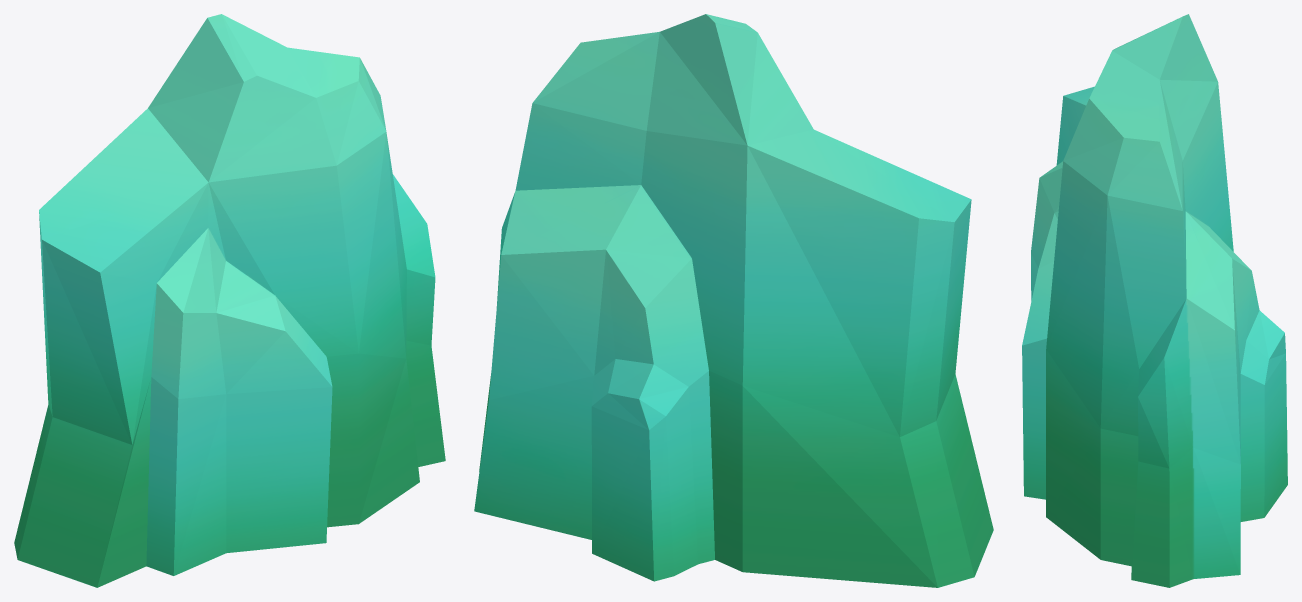
The model's file is SM_APP_Lush_Cliff_B.glb.
3 views of the same model, side by side, from view 1: azimuth 30°, elevation 25°; view 2: azimuth 150°, elevation 25°; view 3: azimuth 270°, elevation 25° (orthographic). The views are drawn at different scales.
Parts seen in each view (by area): view 1: SM_APP_Lush_Cliff_B; view 2: SM_APP_Lush_Cliff_B; view 3: SM_APP_Lush_Cliff_B.
Boxes of the visible parts, x1,y1,x2,y2 form: SM_APP_Lush_Cliff_B: (14, 14, 445, 587); SM_APP_Lush_Cliff_B: (474, 14, 993, 587); SM_APP_Lush_Cliff_B: (1022, 14, 1287, 587).
Bounding box in the file's own units: 25.4 × 26.46 × 13.53.
1 material, 1 textured.
